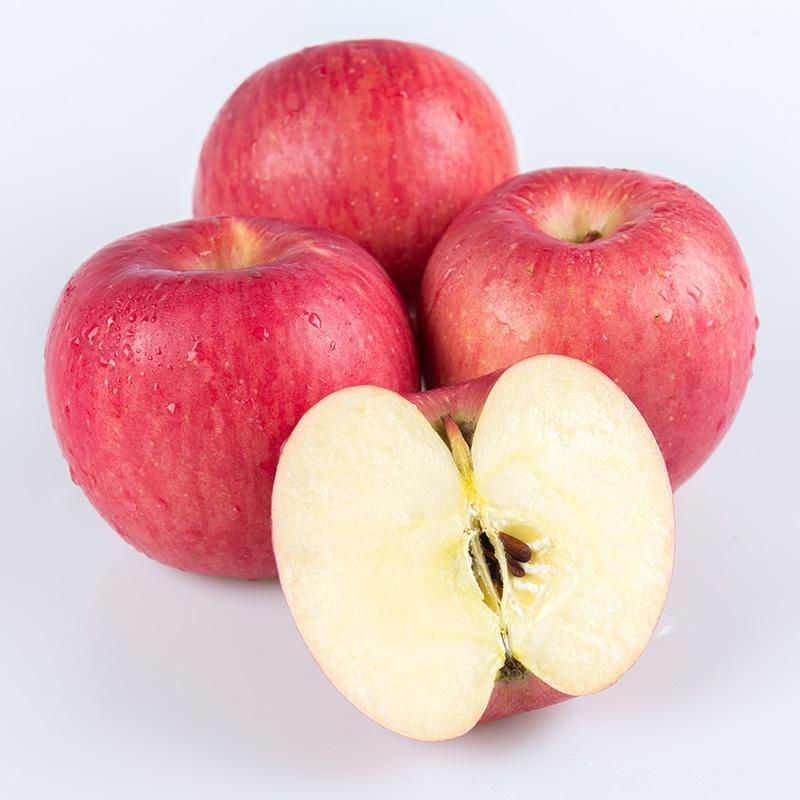apple: (43, 218, 421, 595), (355, 168, 746, 509), (192, 32, 515, 275)
